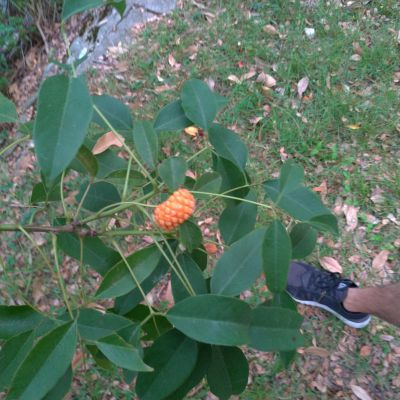eggs: (151, 183, 201, 230)
